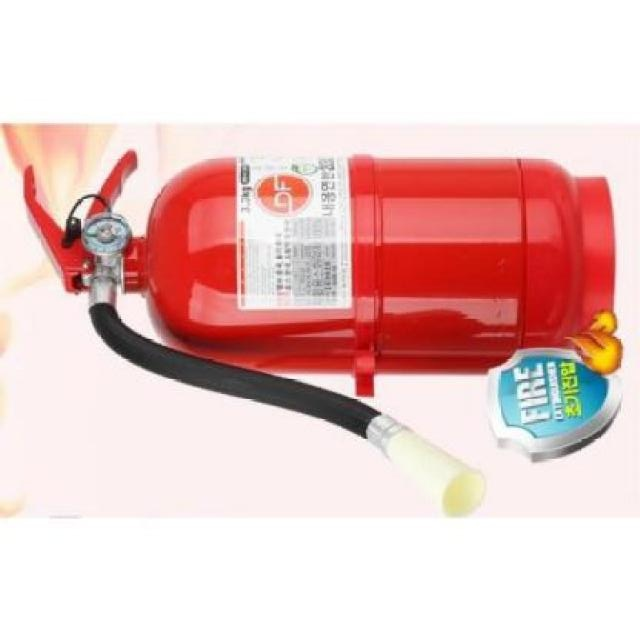fire extinguisher: (21, 150, 615, 518)
